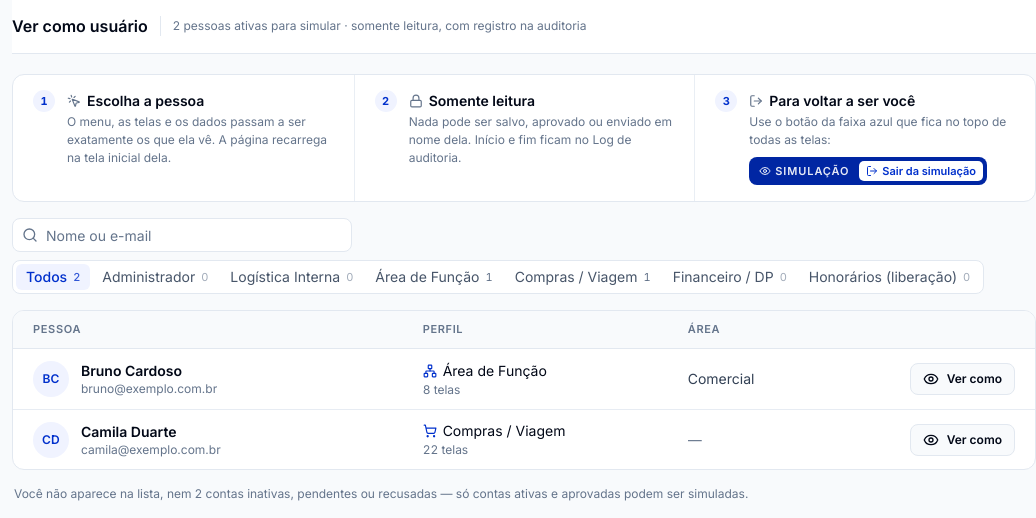
Test: Ver como usuário › o perfil conta e filtra
The width and height of the screenshot is (1036, 518).
Expected: the element with test id "sim-lista" is shown, [12,310,1035,470]
Click the radio button with test id "sim-perfil-purchasing": {"x": 583, "y": 277} [505,264,661,290]
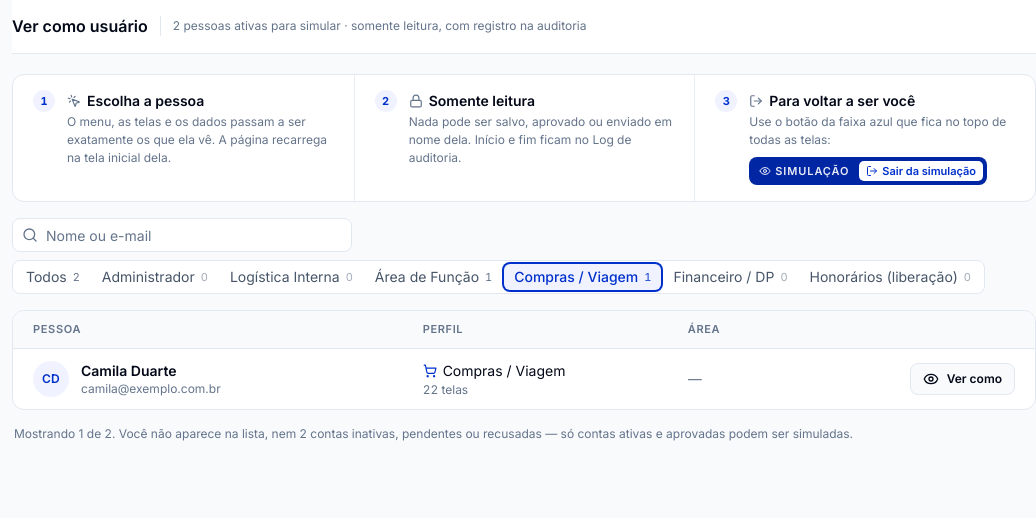
Expected: the button "Camila Duarte" is shown, [81,361,176,381]
Now the button "Bruno Cardoso" is gone
